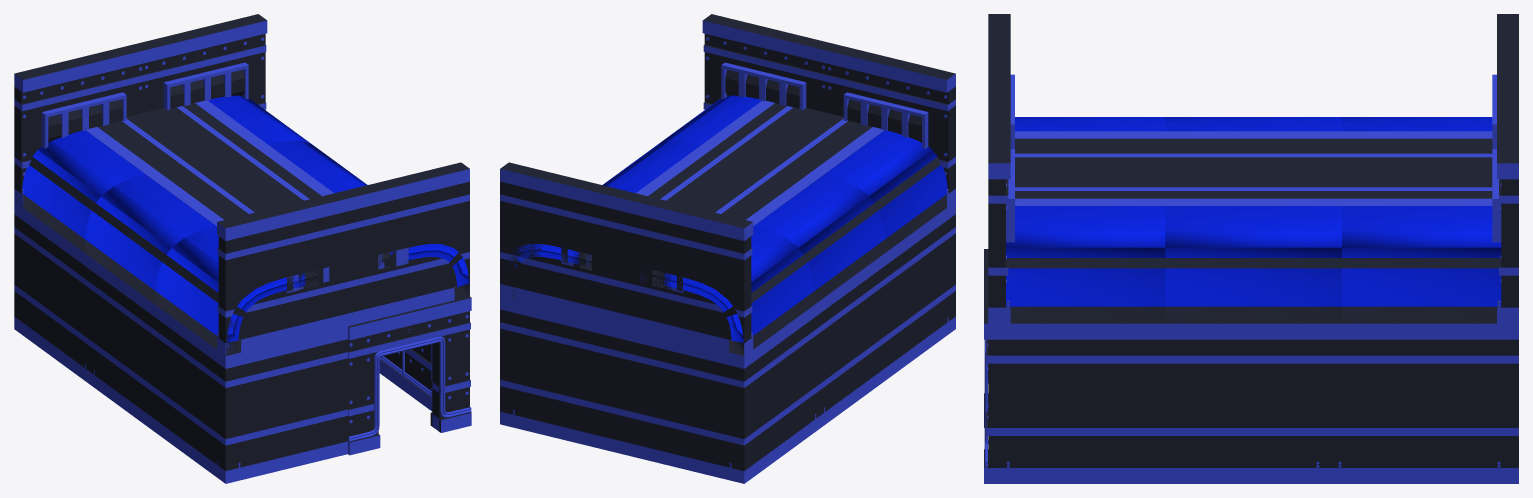
File: Power Core Collection.fbx
The picture shows the model from 3 angles, left to right: view 1: azimuth 30°, elevation 25°; view 2: azimuth 150°, elevation 25°; view 3: azimuth 270°, elevation 25°; orthographic projection. The views are drawn at different scales.
Visible parts, largest first — view 1: Power Core.095, Power Core.670, Power Core.691, Power Core.733, Power Core.241, Power Core.712, Power Core.317, Power Core.128, Power Core.554, Power Core.207, Power Core, Power Core.496 (+10 smaller); view 2: Power Core.733, Power Core.712, Power Core.064, Power Core.031, Power Core.317, Power Core.670, Power Core.691, Power Core.554, Power Core.207, Power Core.241, Power Core, Power Core.525 (+9 smaller); view 3: Power Core.262, Power Core.338, Power Core.296, Power Core.641, Power Core.583, Power Core.612, Power Core, Power Core.754, Power Core.785, Power Core.691, Power Core.712, Power Core.128 (+7 smaller).
Part boxes in pixels (box(x1,y1,x2,y2)): Power Core.095: box(217, 326, 347, 483); Power Core.670: box(217, 192, 347, 355); Power Core.691: box(339, 162, 469, 326); Power Core.733: box(14, 44, 145, 207); Power Core.241: box(155, 305, 240, 483); Power Core.712: box(136, 14, 267, 112); Power Core.317: box(14, 201, 84, 380); Power Core.128: box(348, 296, 471, 455); Power Core.554: box(84, 174, 215, 304); Power Core.207: box(84, 261, 155, 431); Power Core: box(146, 144, 333, 225); Power Core.496: box(22, 130, 144, 252); Power Core.733: box(622, 192, 753, 355); Power Core.712: box(500, 162, 630, 326); Power Core.064: box(622, 326, 744, 483); Power Core.031: box(512, 300, 622, 453); Power Core.317: box(729, 305, 814, 483); Power Core.670: box(825, 44, 955, 207); Power Core.691: box(702, 14, 833, 112); Power Core.554: box(754, 174, 885, 303); Power Core.207: box(815, 253, 885, 424); Power Core.241: box(885, 208, 948, 380); Power Core: box(636, 144, 824, 225); Power Core.525: box(825, 130, 947, 252); Power Core.262: box(1006, 323, 1165, 483); Power Core.338: box(1342, 323, 1501, 483); Power Core.296: box(1165, 323, 1341, 483); Power Core.641: box(1165, 206, 1341, 323); Power Core.583: box(1006, 206, 1165, 323); Power Core.612: box(1342, 206, 1501, 323); Power Core: box(1165, 131, 1341, 205); Power Core.754: box(1342, 131, 1492, 205); Power Core.785: box(1015, 131, 1165, 205); Power Core.691: box(988, 88, 1014, 323); Power Core.712: box(1492, 88, 1518, 323); Power Core.128: box(984, 249, 1010, 483).
Bounding box in the file's own units: 400 × 400 × 605.
